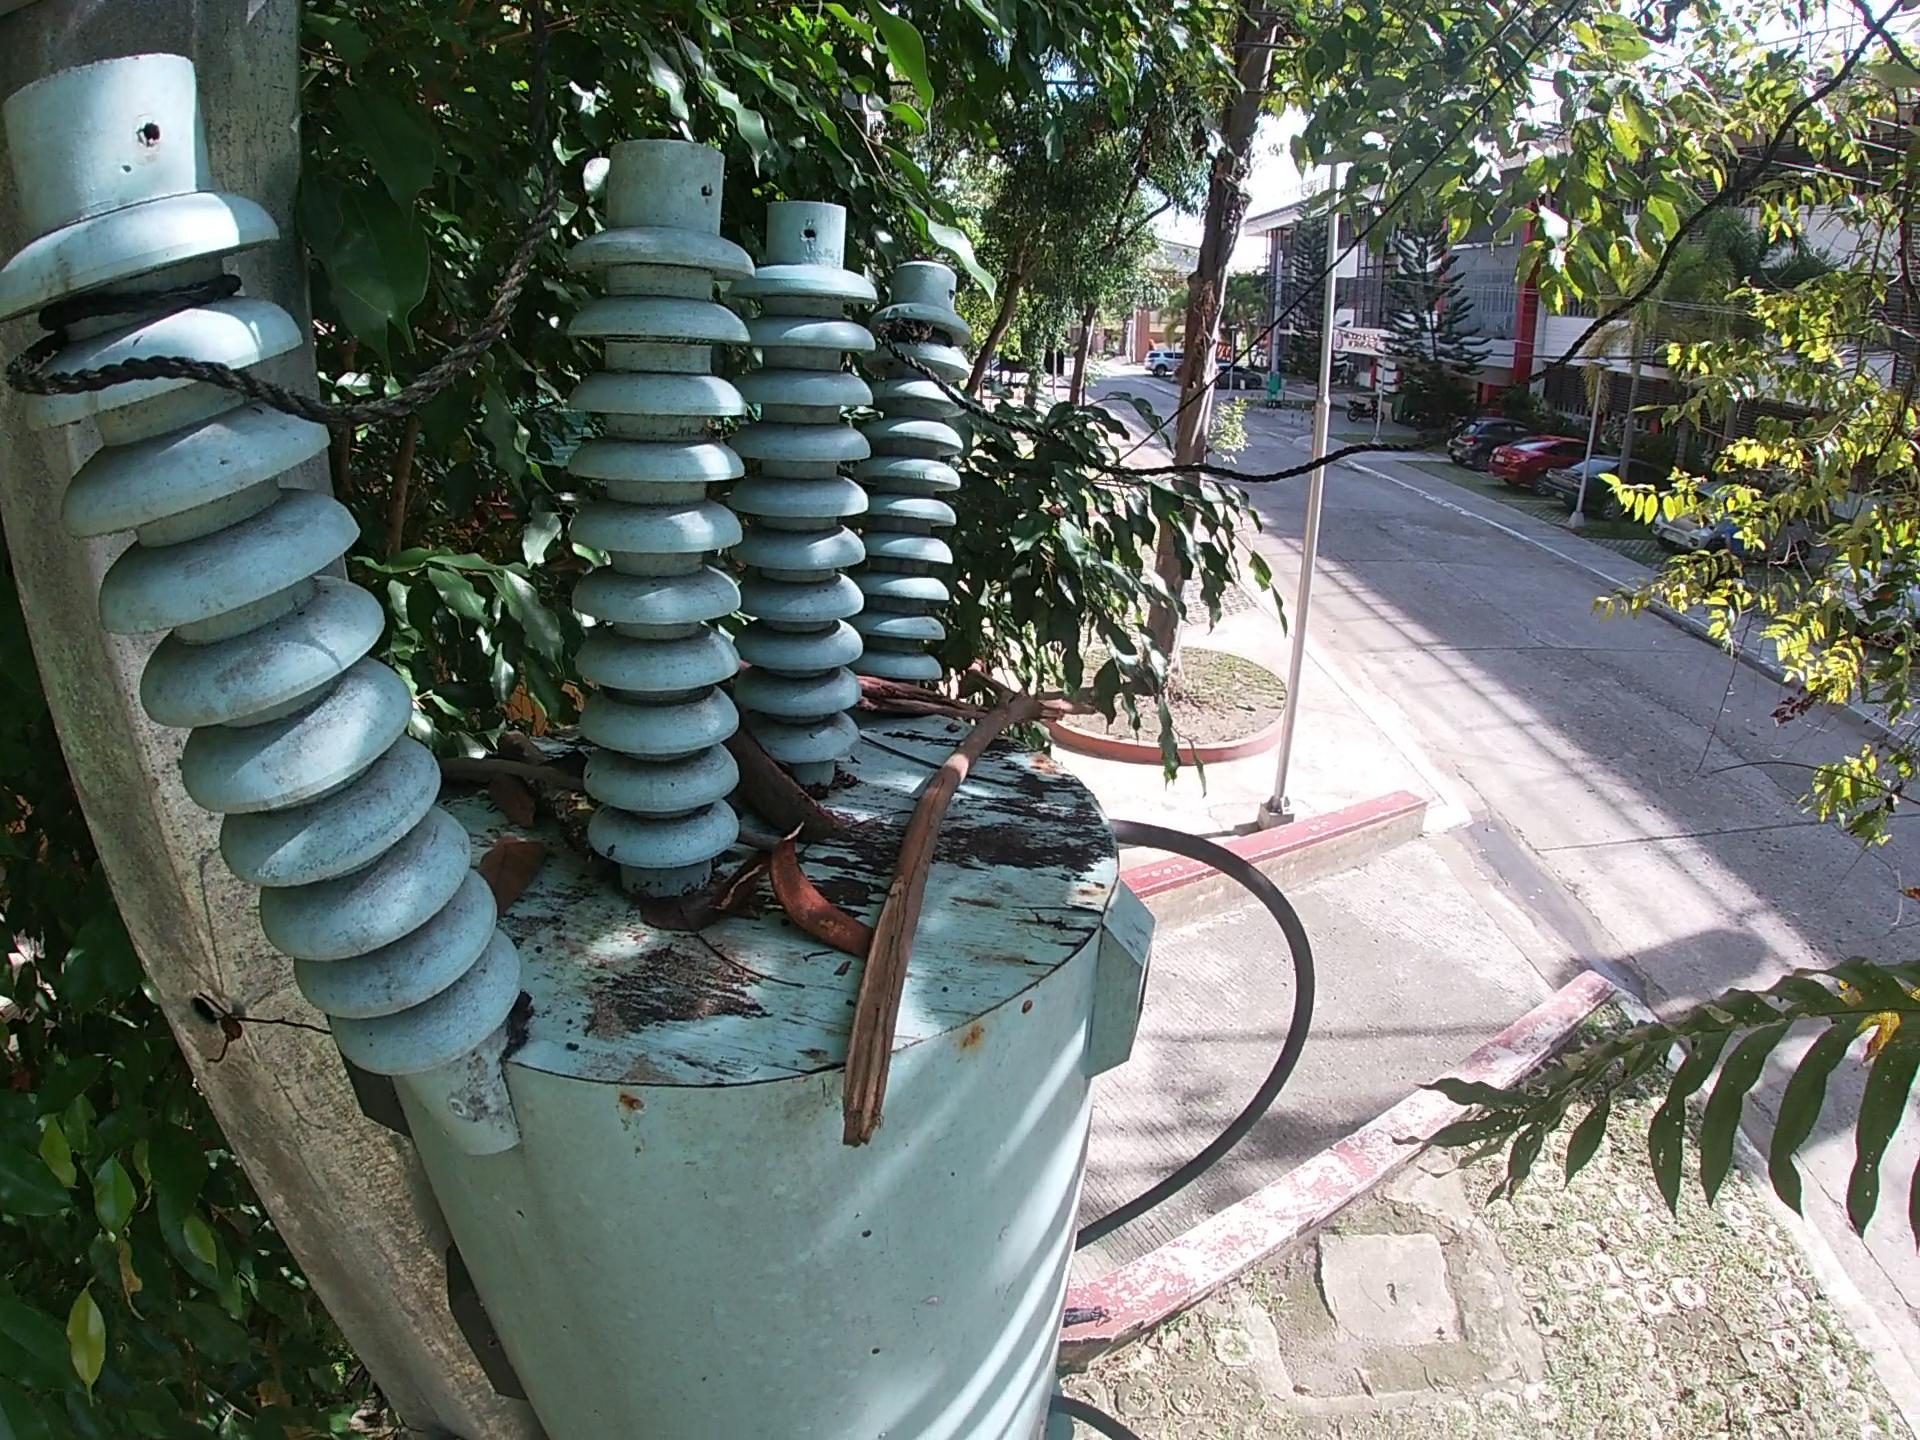leaf: (473, 839, 555, 902), (641, 883, 712, 930), (505, 790, 549, 830)
mahogany fruit: (738, 737, 884, 853), (773, 826, 860, 964)
tree branch: (816, 667, 1069, 1186), (497, 715, 602, 862), (686, 929, 812, 995), (856, 675, 980, 728), (443, 756, 593, 782), (860, 726, 934, 773), (711, 858, 774, 912), (969, 768, 1040, 790), (738, 830, 779, 853), (730, 661, 751, 703)
